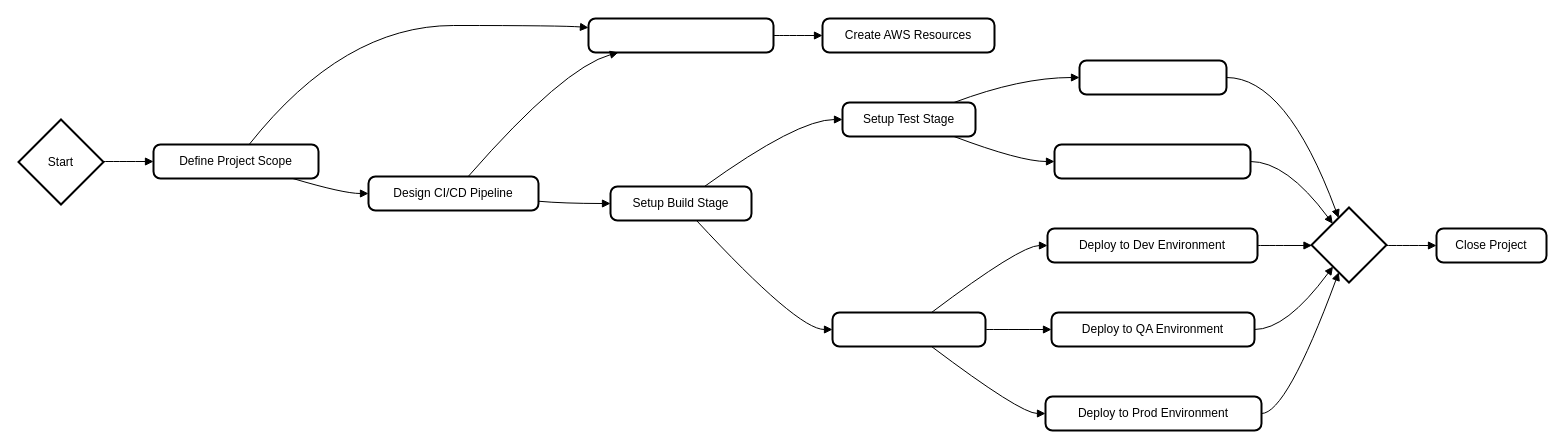
This 1564x448 diagram has some shape labels left out. The shapes that lost their labels are listed below. From the top down, each one's centre as x and y in pixels, then its label:
the point at 680,35: Setup AWS Environment
the point at 1152,77: Execute Unit Tests
the point at 1152,161: Execute Integration Tests
the point at 1348,244: End
the point at 908,329: Setup Deploy Stage
